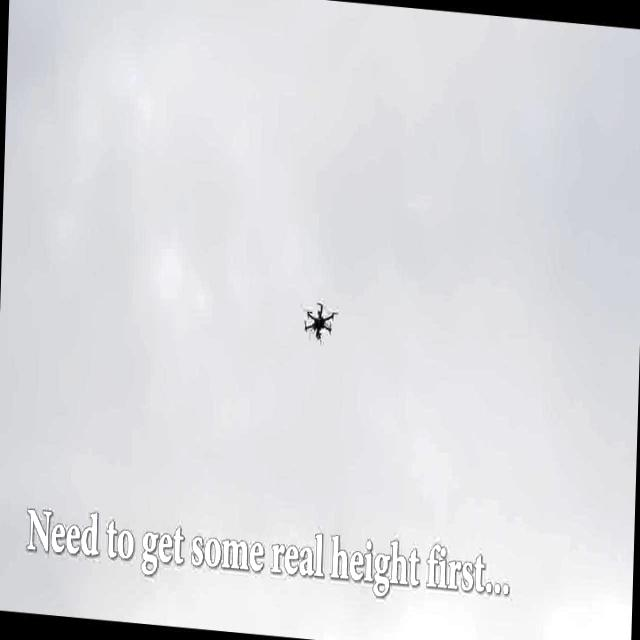drone: (302, 296, 340, 348)
